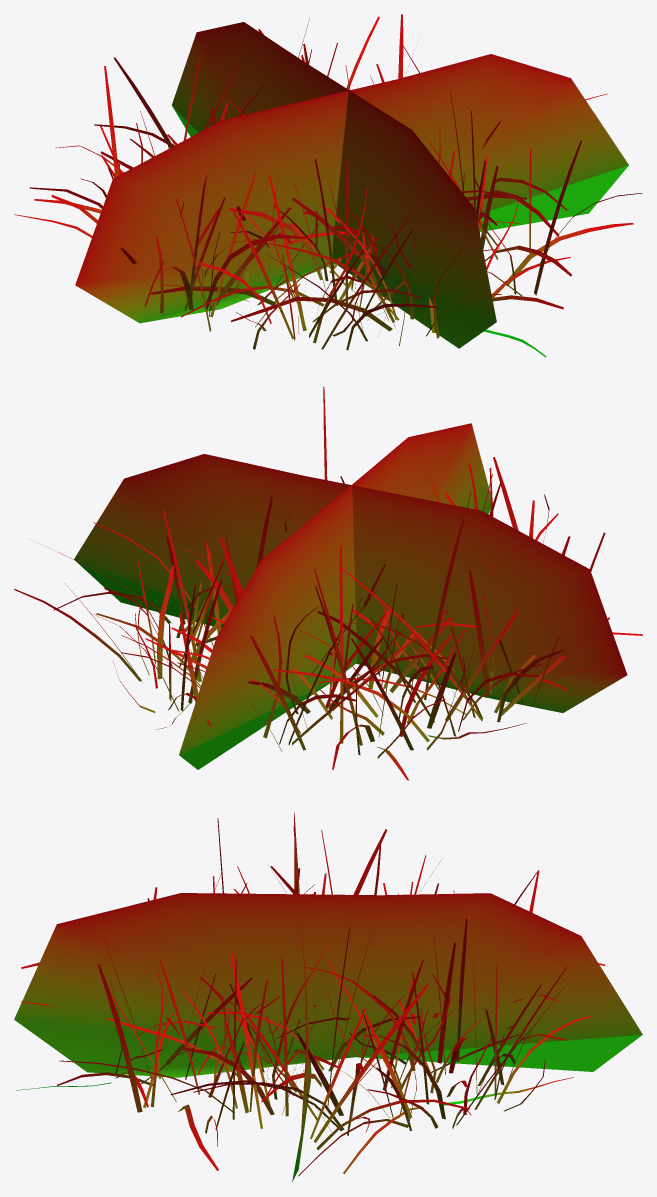
Rendered from Var18_LOD2.fbx.
The picture shows the model from 3 angles, top to bottom: view 1: azimuth 30°, elevation 25°; view 2: azimuth 150°, elevation 25°; view 3: azimuth 270°, elevation 25°; orthographic projection. The views are drawn at different scales.
Visible parts, largest first — view 1: _nm36_Var18_LOD2; view 2: _nm36_Var18_LOD2; view 3: _nm36_Var18_LOD2.
Boxes of the visible parts, x1,y1,x2,y2 form: _nm36_Var18_LOD2: (14,14,642,357); _nm36_Var18_LOD2: (14,386,642,780); _nm36_Var18_LOD2: (14,812,642,1182).
Bounding box in the file's own units: 55.29 × 17.65 × 54.04.
